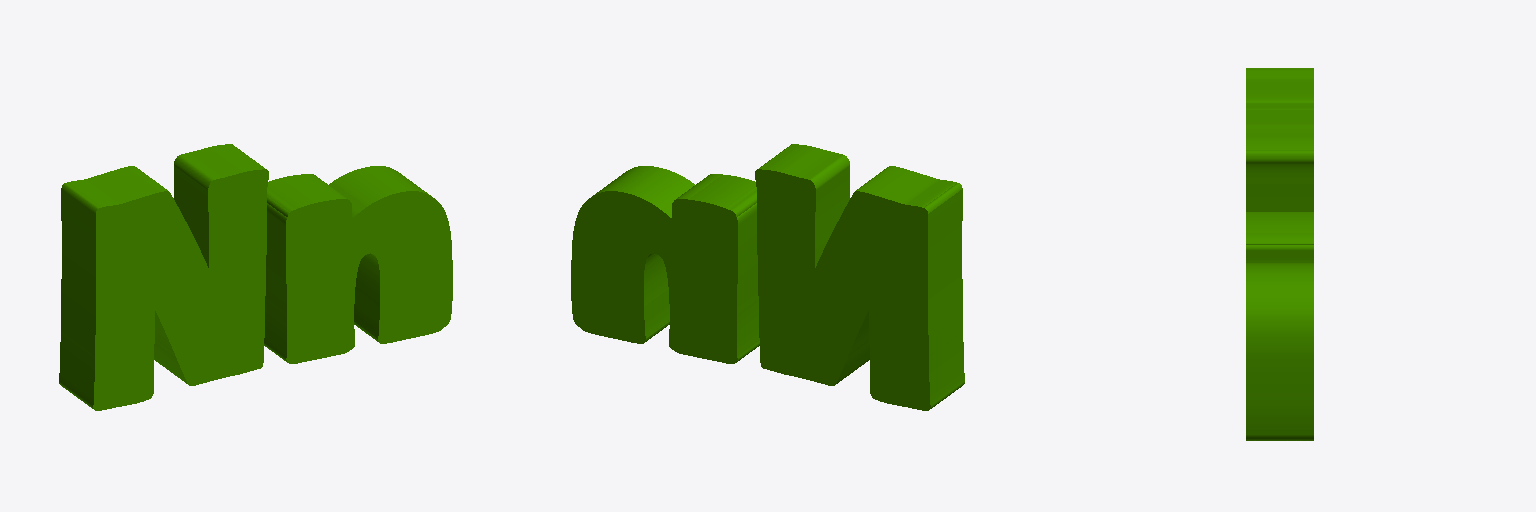
Rendered from Letter_n.obj.
3 renders of one model, left to right at view 1: azimuth 30°, elevation 25°; view 2: azimuth 150°, elevation 25°; view 3: azimuth 270°, elevation 25°, orthographic.
Parts seen in each view (by area): view 1: Text; view 2: Text; view 3: Text.
Boxes of the visible parts, x1,y1,x2,y2 form: Text: [59, 144, 452, 410]; Text: [571, 144, 964, 410]; Text: [1246, 68, 1313, 440].
Bounding box in the file's own units: 1.21 × 0.6664 × 0.2.